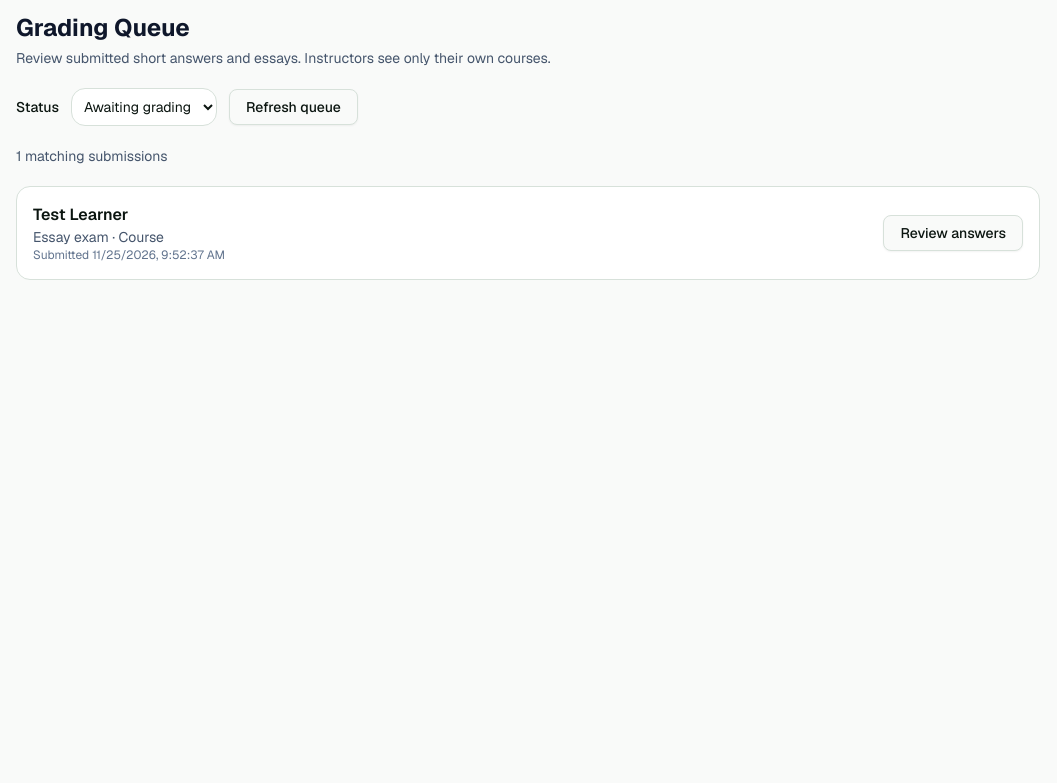
shows written answers and requires explicit points
Click the button "Review answers". click: {"x": 953, "y": 233}
box: [883,215,1023,251]
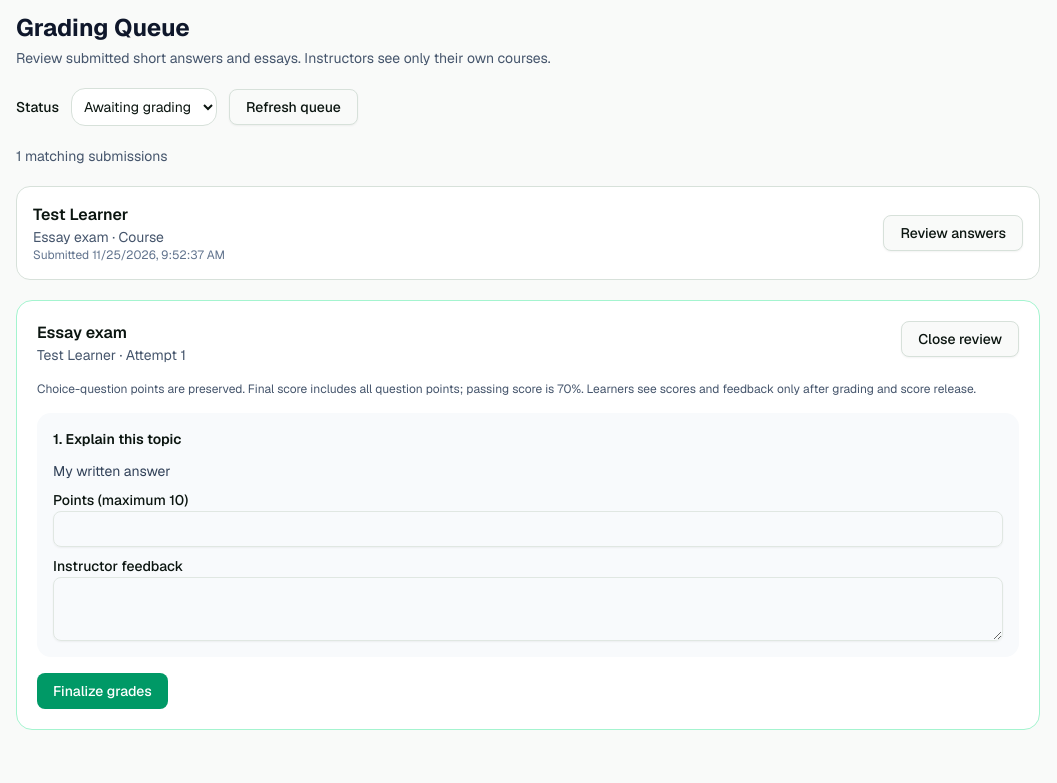
Now the text "My written answer" is shown, box [53,462,170,480]
Click the button "Finalize grades". click: {"x": 102, "y": 691}
box: [37,673,168,709]
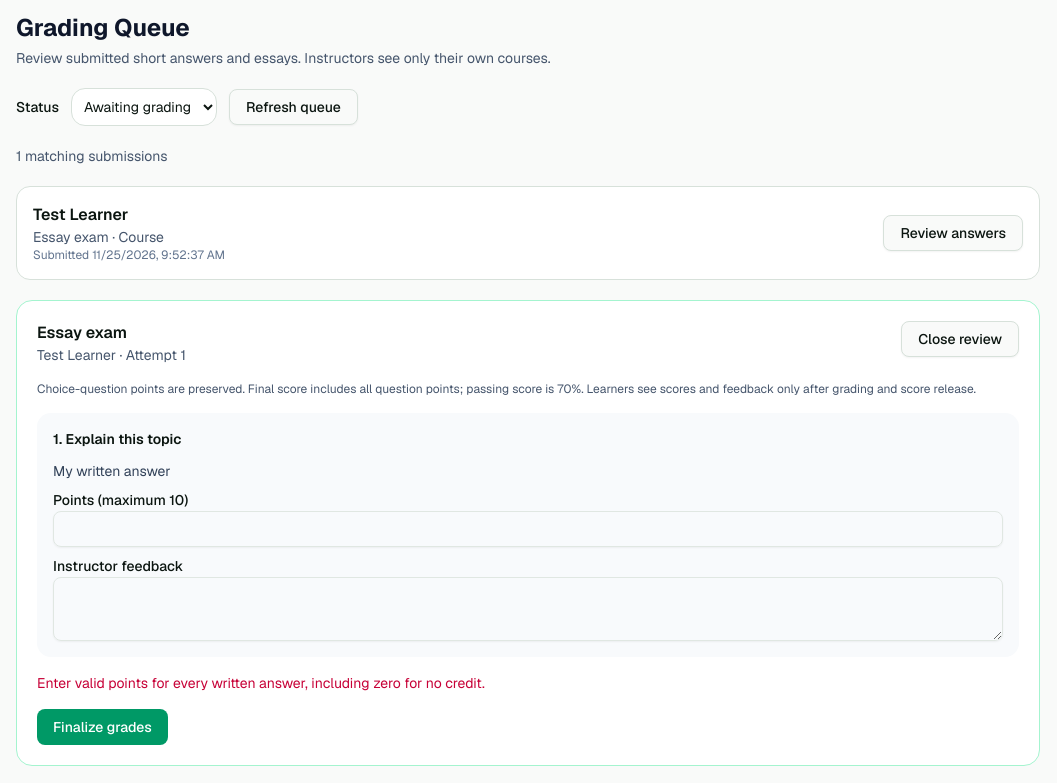
Now the message shows "Enter valid points", box [37,674,485,692]
